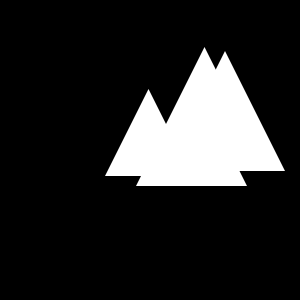triangle: (165, 51, 285, 171), (146, 47, 263, 164), (136, 75, 247, 186), (105, 89, 192, 176)
